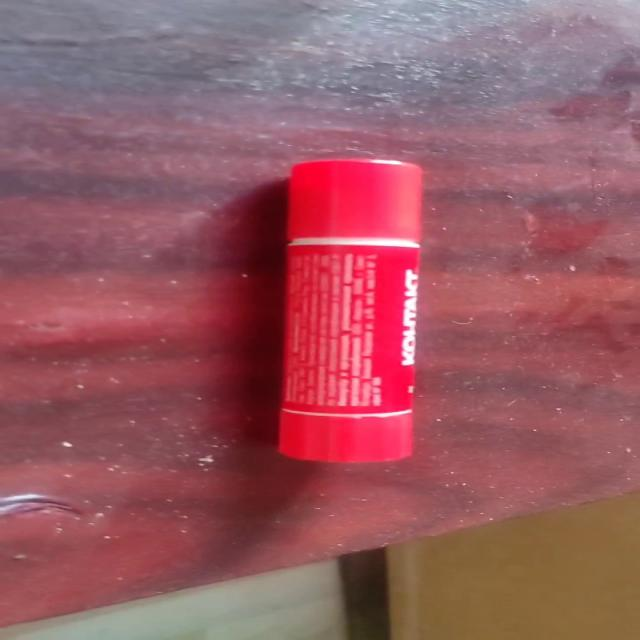glue: (277, 157, 423, 463)
